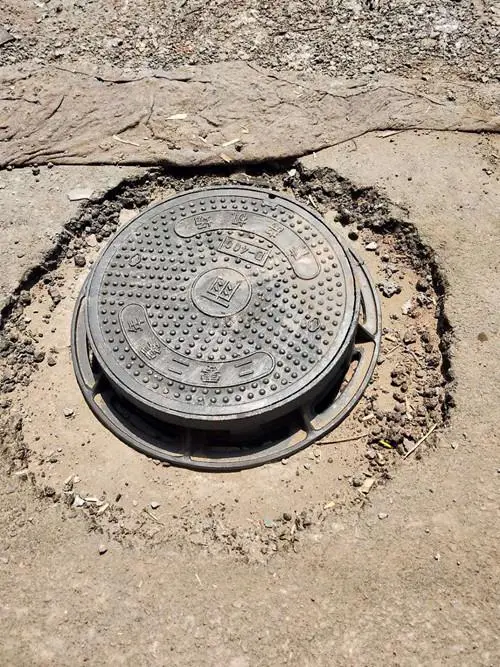circle: (9, 162, 450, 553)
